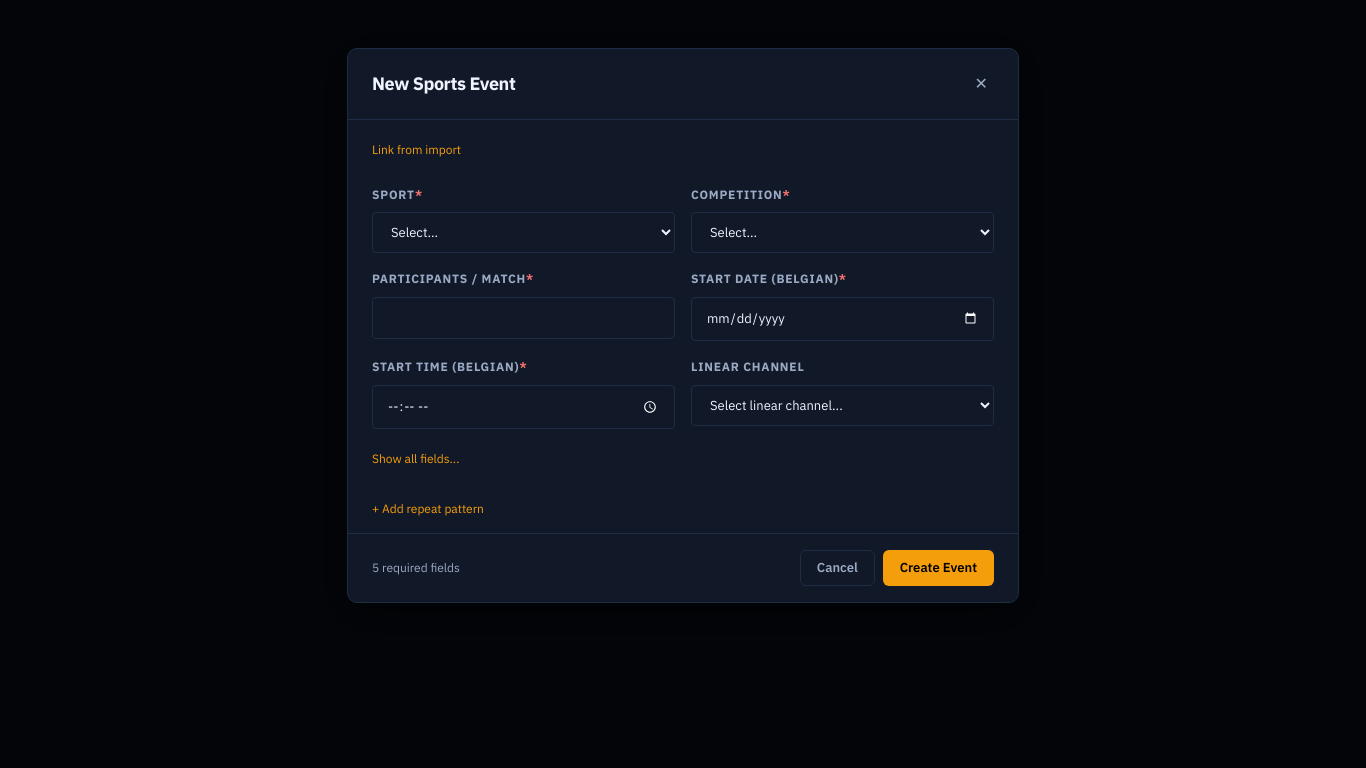
Scenario: DynamicEventForm — field rendering (fields-prop driven) › show-all mode: Core/Scheduling open, Broadcast/Reference collapsed — Linear Channel disappears (PINNED quirk)
Expected: the text "Linear Channel" is shown, [691, 359, 805, 374]
Click the button "Show all fields..." at (416, 459), box [372, 451, 459, 467]
(page scrolled)
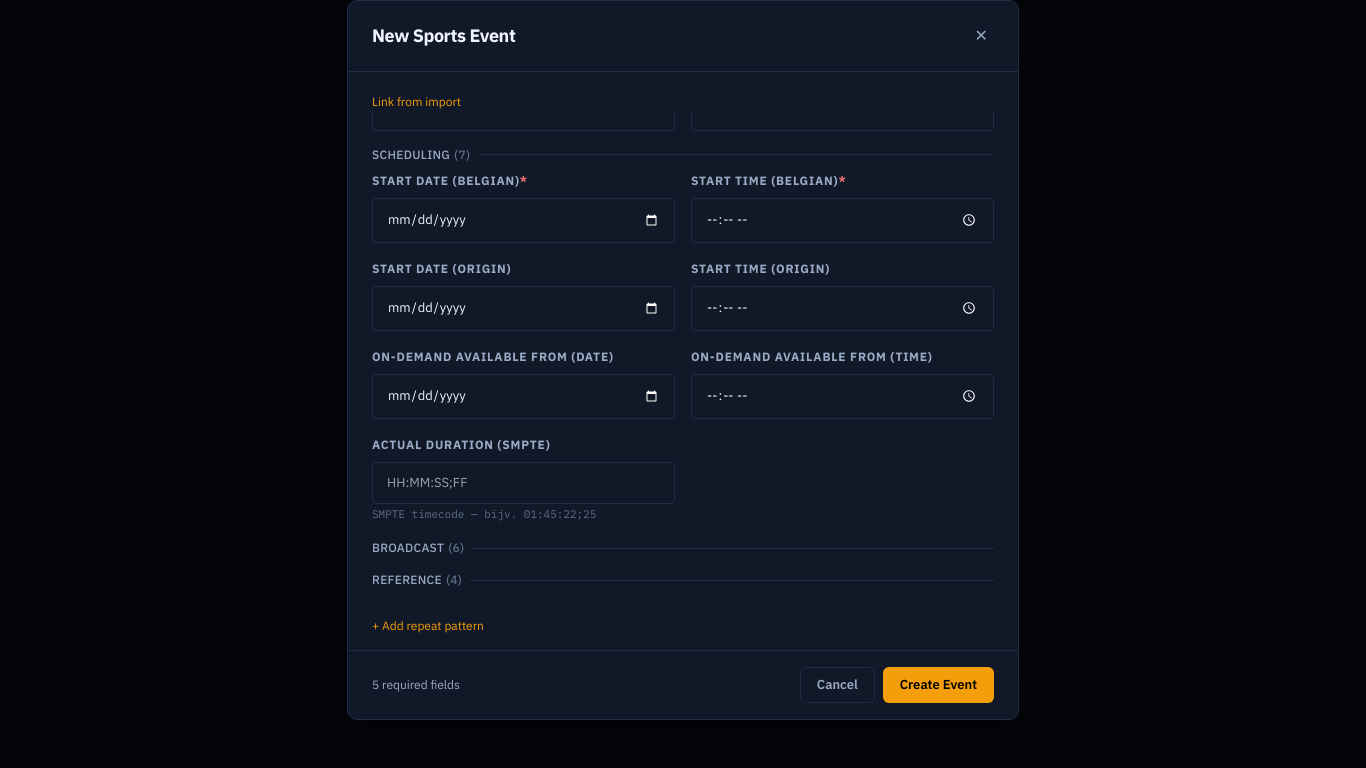
Expected: the text "Radio Channel" is not shown
Now the text "On-demand Available From (date)" is shown, box [372, 348, 614, 364]
Now the text "Linear Channel" is gone
Expanding Broadcast reveals its fields
Click the button "Broadcast(6)" at (408, 548), box [372, 540, 994, 556]
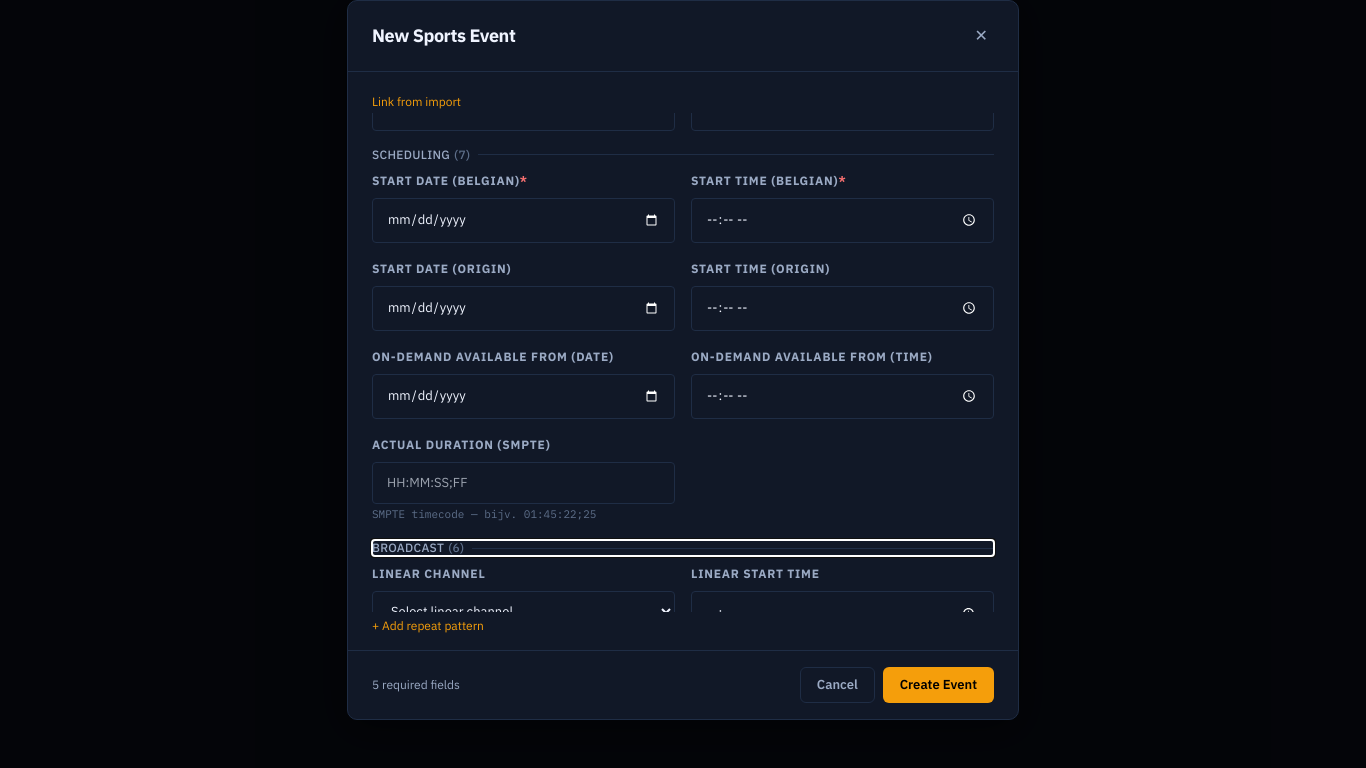
Now the text "Linear Channel" is shown, box [372, 566, 486, 581]
